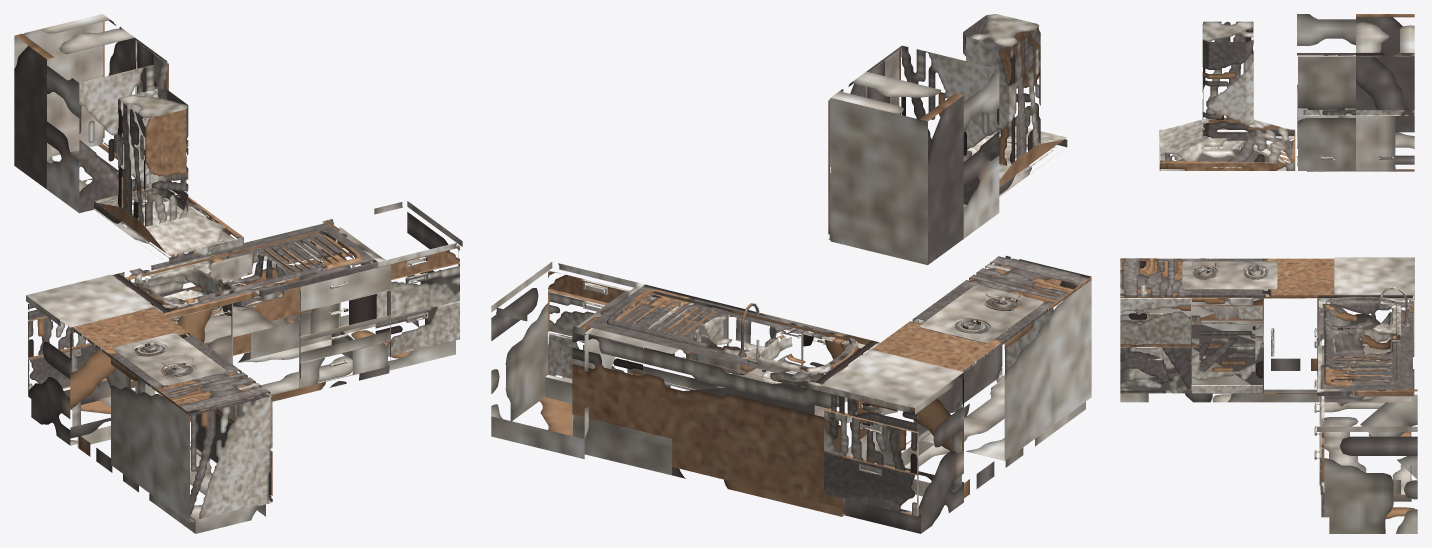
3 views of the same model, side by side, from view 1: azimuth 30°, elevation 25°; view 2: azimuth 150°, elevation 25°; view 3: azimuth 270°, elevation 25° (orthographic). The views are drawn at different scales.
Parts seen in each view (by area): view 1: solid_001, solid_002, solid_006; view 2: solid_001, solid_002, solid_006; view 3: solid_001, solid_002, solid_006, solid_003.
Part boxes in pixels (x1,y1,x2,y2): solid_001: (26,88,462,533); solid_002: (14,14,459,502); solid_006: (132,342,195,376); solid_001: (491,14,1091,533); solid_002: (548,45,1002,516); solid_006: (952,295,1021,333); solid_001: (1120,21,1417,533); solid_002: (1120,14,1414,517); solid_006: (1191,265,1268,371); solid_003: (1191,306,1262,384).
Bounding box in the file's own units: 1.4 × 1.3 × 1.
